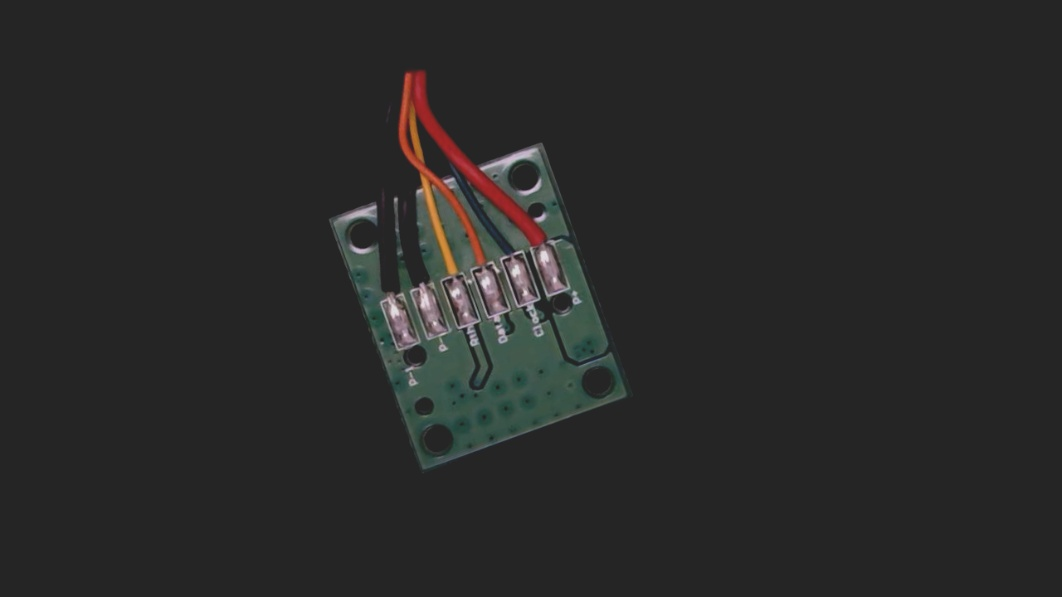Black: (396, 244, 436, 303)
Black1: (363, 253, 408, 315)
Green: (487, 221, 529, 273)
Orange: (455, 224, 498, 283)
Red: (515, 201, 558, 263)
Yellow: (422, 227, 469, 294)
